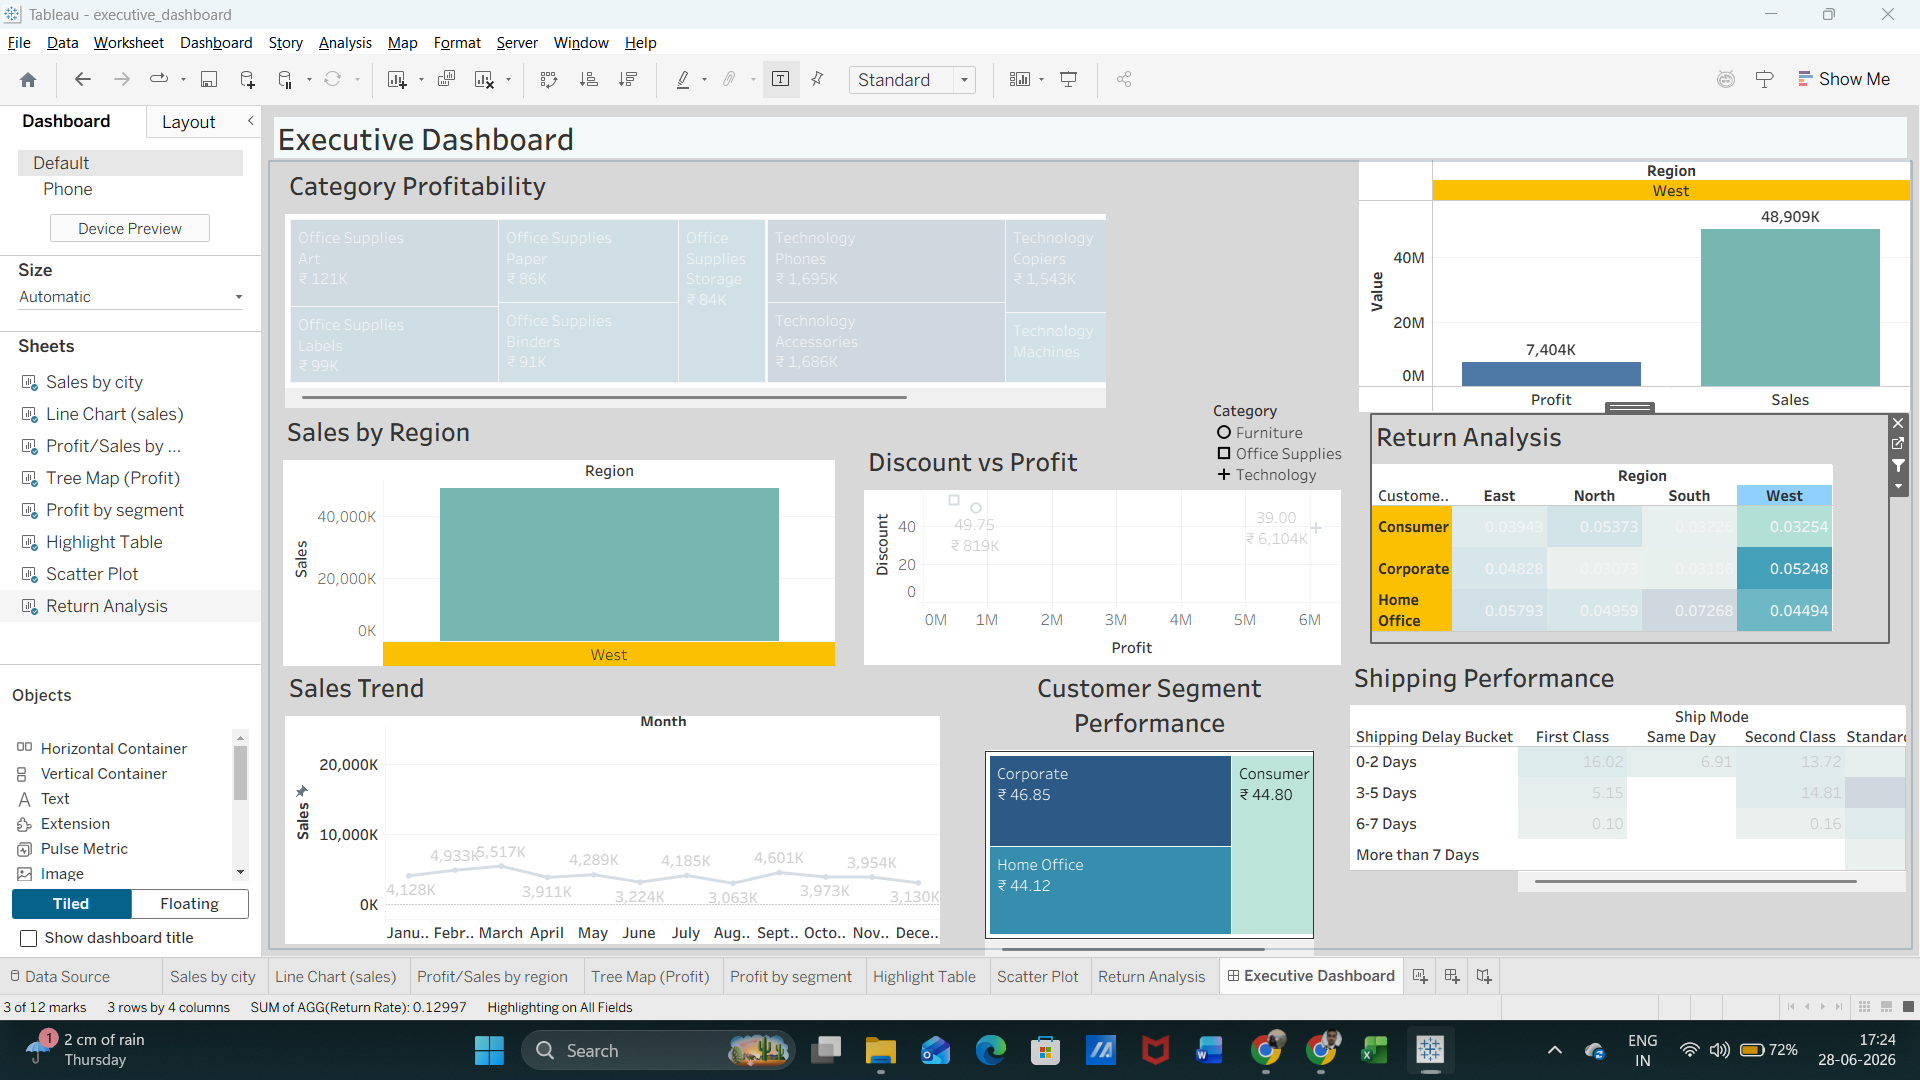

What the dashboard file says about the page in this screenshot:
{"tool":"tableau","page":{"name":"Executive Dashboard","canvas":[1000,1000],"units":"permille","ordinal":0},"visuals":[{"type":"title","box":[4.8,9.4,990.3,57.6]},{"type":"worksheet","title":"Profit/Sales by region","mark":"Automatic","cols":["region"],"box":[662,64.6,333.1,296.1]},{"type":"worksheet","title":"Tree Map (Profit)","mark":"Automatic","box":[13.9,69.3,495.5,286.7]},{"type":"legend","title":"Scatter Plot","param":"[federated.0z5z3j31rj5l7211yzydh0zxtakk].[none:category:nk]","box":[573.9,346.7,85.1,99.9]},{"type":"worksheet","title":"Sales by city","mark":"Automatic","rows":["sales"],"cols":["region"],"box":[12.7,358.4,333.1,300.8]},{"type":"worksheet","title":"Return Analysis","mark":"Square","rows":["customer_segment"],"cols":["region"],"box":[669.9,364.3,311.4,266.8]},{"type":"worksheet","title":"Scatter Plot","mark":"Automatic","rows":["discount"],"cols":["profit"],"box":[363.3,393.7,287.9,264.4]},{"type":"worksheet","title":"Highlight Table","mark":"Square","rows":["Calculation_2171277562015750"],"cols":["ship_mode"],"box":[656.8,647.5,335.8,332.6]},{"type":"worksheet","title":"Line Chart (sales)","mark":"Line","rows":["sales"],"cols":["Month"],"box":[13.8,659.2,395.7,326.7]},{"type":"worksheet","title":"Profit by segment","mark":"Automatic","box":[436.3,659.2,198.6,345.5]}]}

Visuals, with their boxes on the dashboard's canvas, which has no fixed pixel size, in thousandths of its width and height (x1, y1, x2, y2). These are canvas units, not pixel positions in the 1920x1080 screenshot, which may show the page scaled, cropped or inside an application window:
title: 5 9 995 67
"Profit/Sales by region" worksheet: 662 65 995 361
"Tree Map (Profit)" worksheet: 14 69 509 356
"Scatter Plot" legend: 574 347 659 447
"Sales by city" worksheet: 13 358 346 659
"Return Analysis" worksheet (Square marks): 670 364 981 631
"Scatter Plot" worksheet: 363 394 651 658
"Highlight Table" worksheet (Square marks): 657 648 993 980
"Line Chart (sales)" worksheet (Line marks): 14 659 410 986
"Profit by segment" worksheet: 436 659 635 1005
